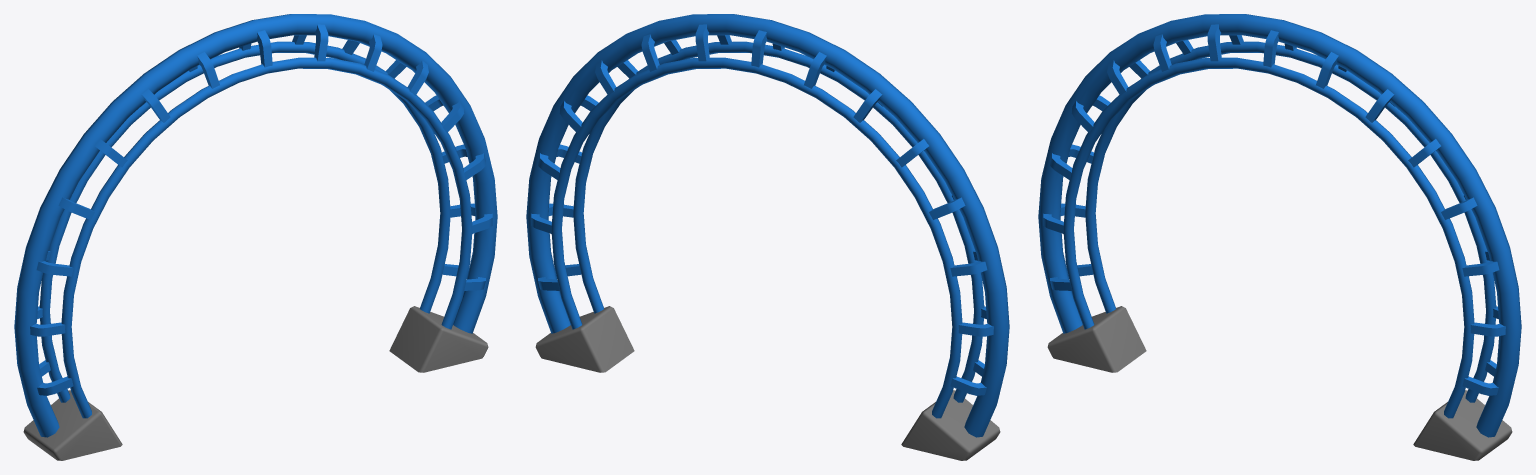
The model's file is decoration_002.fbx.
3 renders of one model, left to right at view 1: azimuth 30°, elevation 25°; view 2: azimuth 150°, elevation 25°; view 3: azimuth 330°, elevation 25°, orthographic.
Parts seen in each view (by area): view 1: decoration_002; view 2: decoration_002; view 3: decoration_002.
Part boxes in pixels (x1,y1,x2,y2): decoration_002: (14, 14, 497, 460); decoration_002: (526, 14, 1009, 460); decoration_002: (1038, 14, 1521, 460).
Bounding box in the file's own units: 1636 × 1227 × 193.
